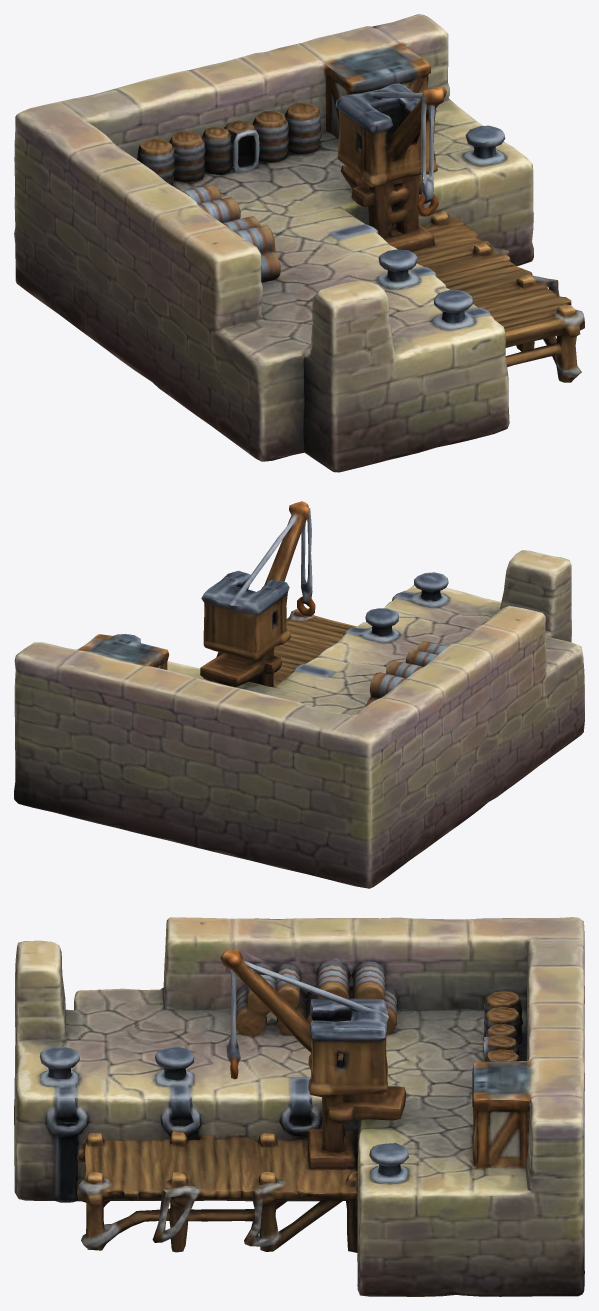
The model's file is harbour_a.glb.
The picture shows the model from 3 angles, top to bottom: view 1: azimuth 30°, elevation 25°; view 2: azimuth 150°, elevation 25°; view 3: azimuth 270°, elevation 25°; orthographic projection. The views are drawn at different scales.
Parts seen in each view (by area): view 1: world; view 2: world; view 3: world.
Part boxes in pixels (bbox=[...]): world: bbox=[14, 14, 584, 472]; world: bbox=[14, 501, 584, 888]; world: bbox=[14, 917, 584, 1296].
Bounding box in the file's own units: 0.862 × 0.5176 × 1.
1 material, 1 textured.
